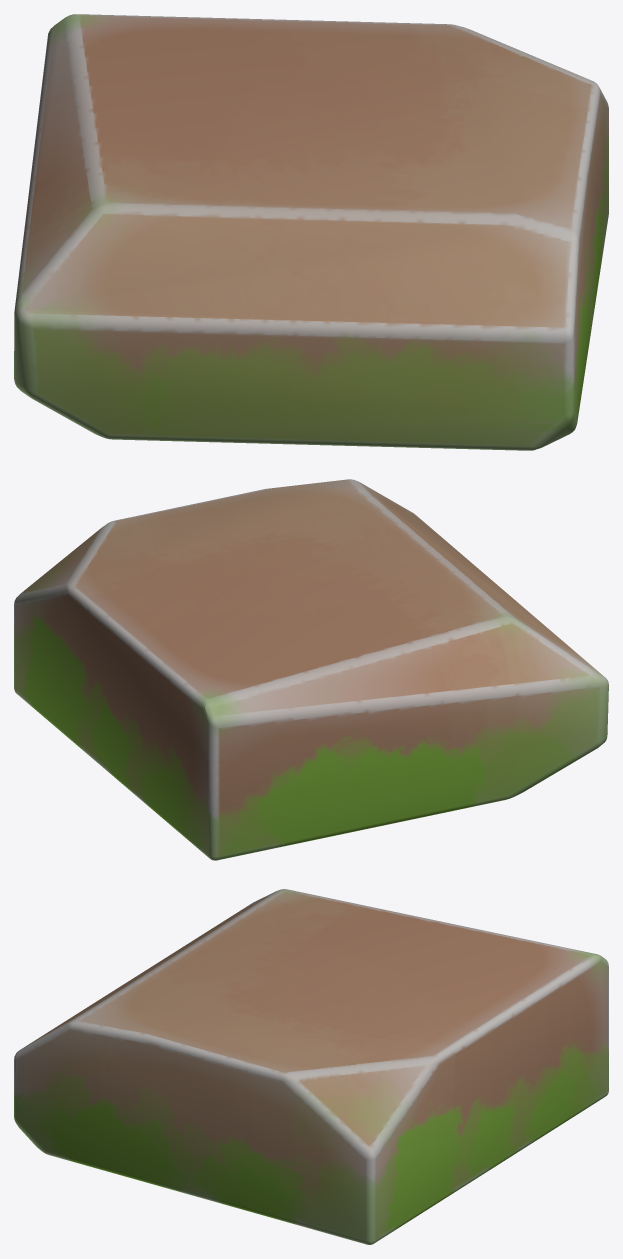
The model's file is Rock Type 4_2.fbx.
The picture shows the model from 3 angles, top to bottom: view 1: azimuth 30°, elevation 25°; view 2: azimuth 150°, elevation 25°; view 3: azimuth 270°, elevation 25°; orthographic projection. The views are drawn at different scales.
Visible parts, largest first — view 1: Cube.104; view 2: Cube.104; view 3: Cube.104.
Part boxes in pixels (x1=…): Cube.104: x1=14, y1=14, x2=608, y2=450; Cube.104: x1=14, y1=479, x2=608, y2=860; Cube.104: x1=14, y1=889, x2=608, y2=1244.
Size of the model in its own units: 587 by 162 by 592.
